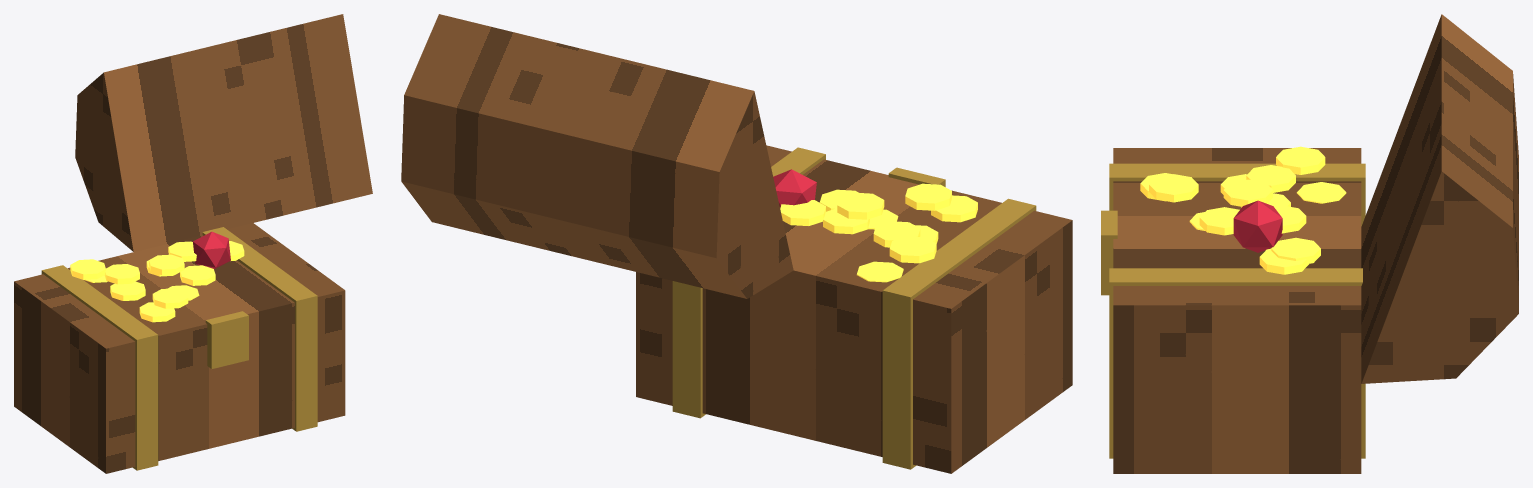
File: chest_open.glb
The picture shows the model from 3 angles, left to right: view 1: azimuth 30°, elevation 25°; view 2: azimuth 150°, elevation 25°; view 3: azimuth 270°, elevation 25°; orthographic projection. The views are drawn at different scales.
Visible parts, largest first — view 1: chest_open; view 2: chest_open; view 3: chest_open.
Part boxes in pixels (x1,y1,x2,y2): chest_open: (14,14,372,473); chest_open: (401,14,1072,473); chest_open: (1101,14,1518,473).
Bounding box in the file's own units: 1.35 × 1.03 × 1.01.
4 materials, 1 textured.
